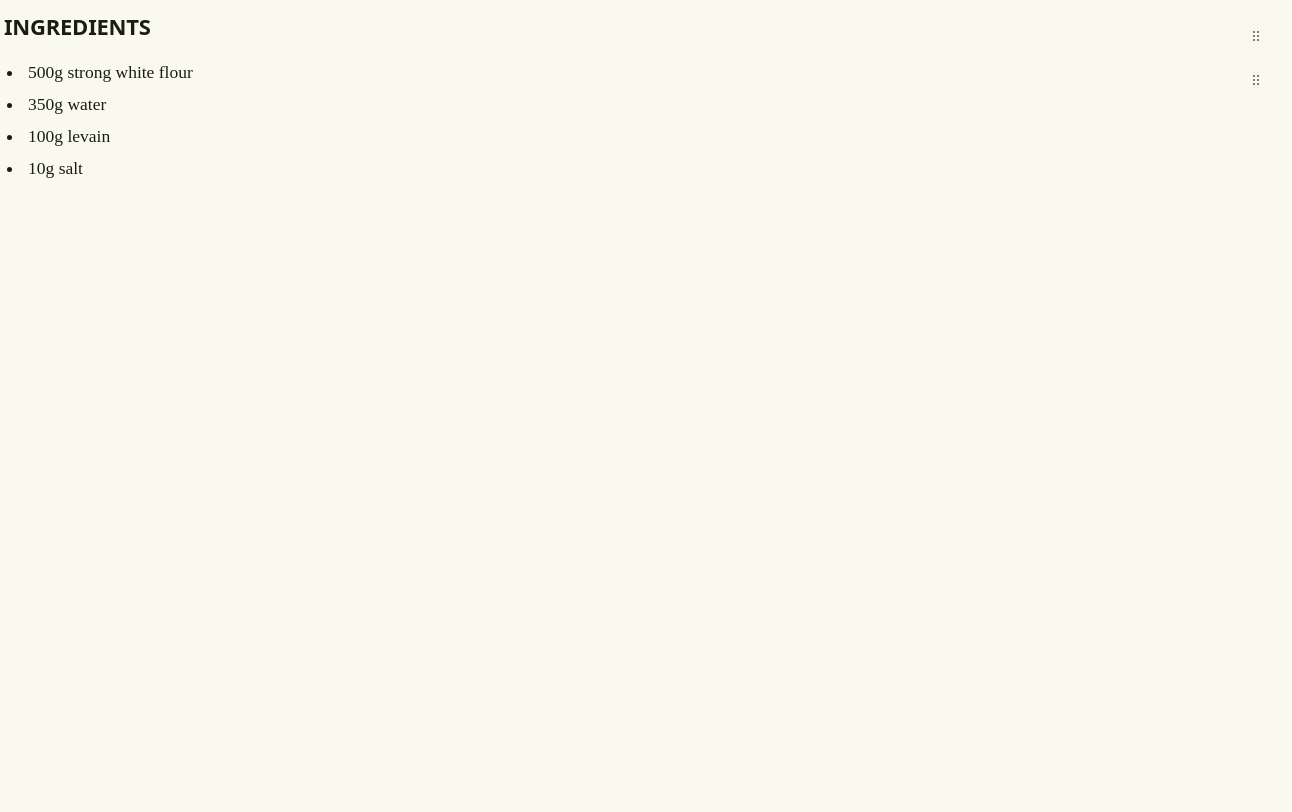
Test: phone keeps the tap-opens-the-menu path on the handle (frame 6) › a tap on the handle still opens the menu
The width and height of the screenshot is (1292, 812).
Click the button named "drag to move" in the row of "500g strong white flour": [1256, 80] box [1234,58,1278,102]
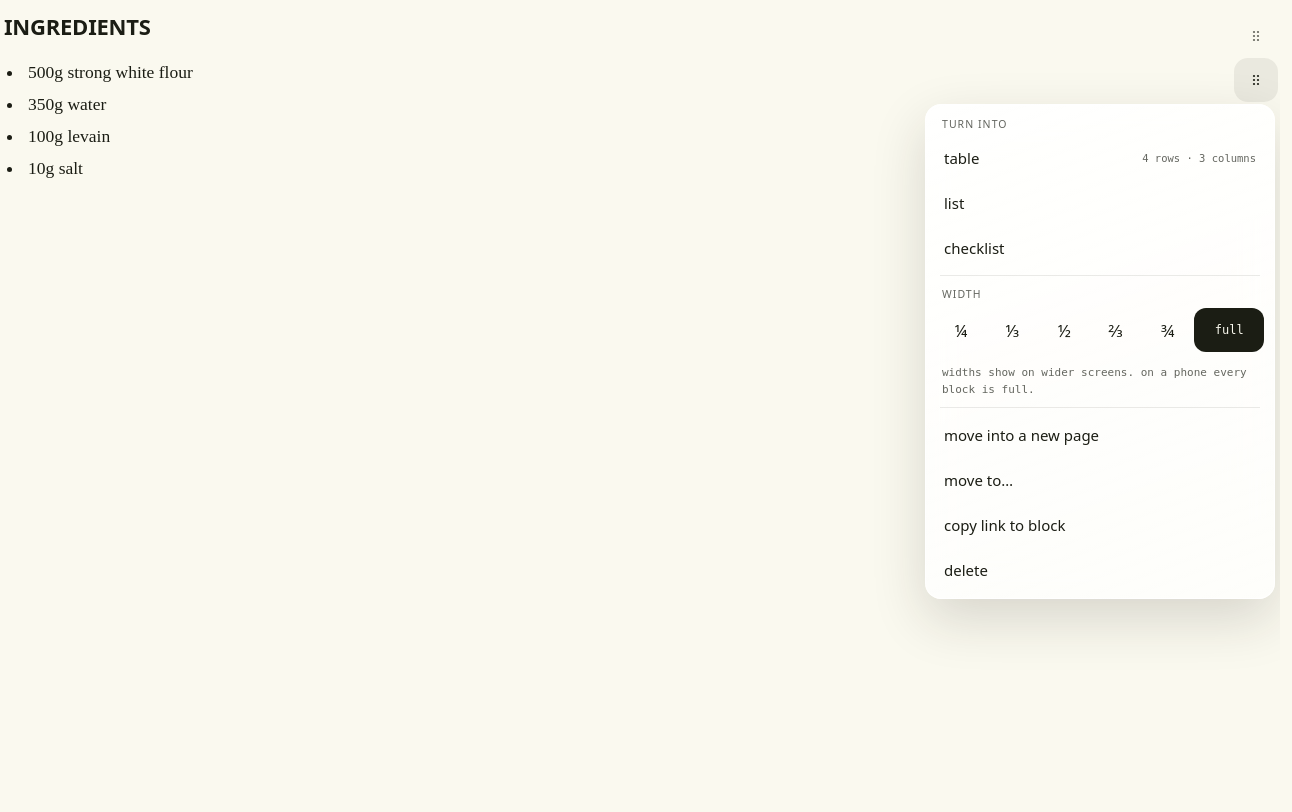
Expected: the menu named "block menu" is shown, [925,104,1275,599]
